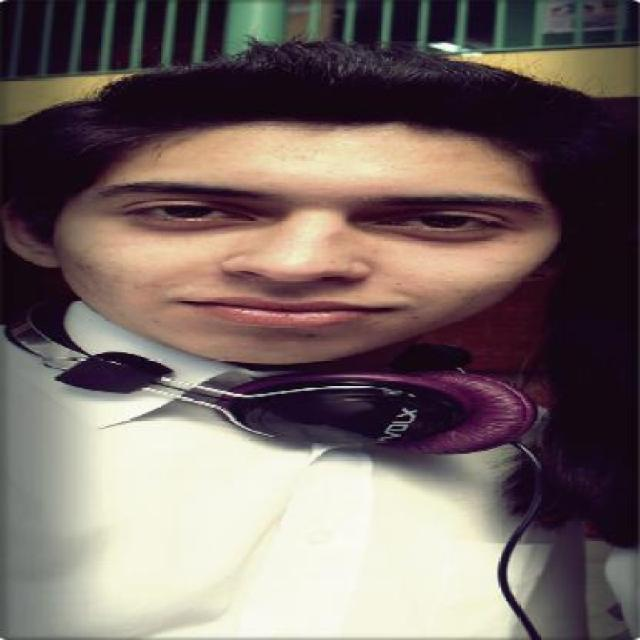earphone: (28, 278, 547, 502)
